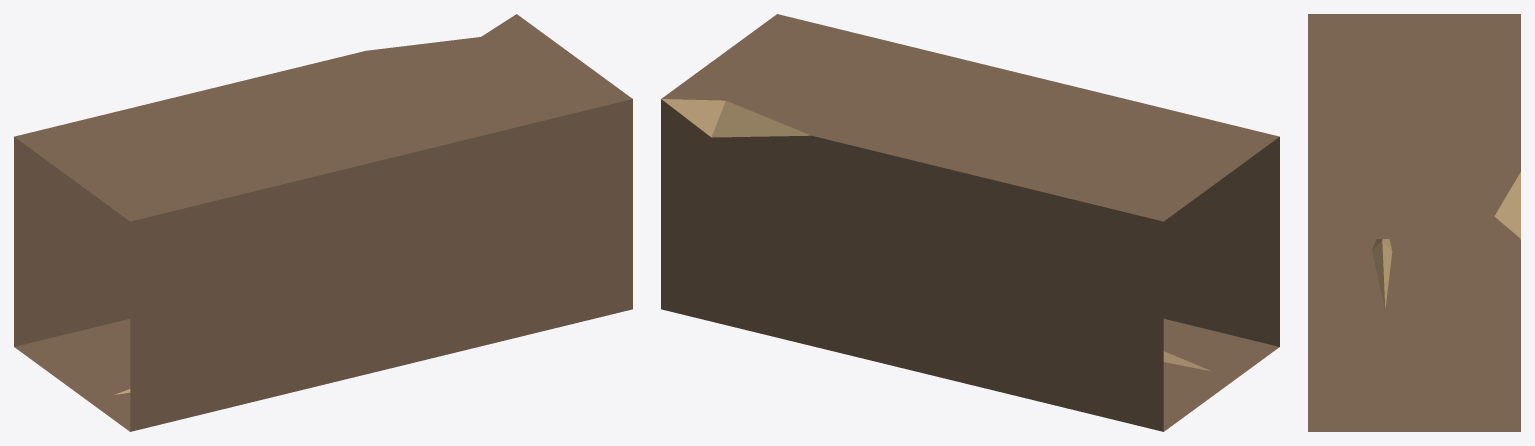
Rendered from Cave_Prop_Support_Ceiling_Beam_4.obj.
3 renders of one model, left to right at view 1: azimuth 30°, elevation 25°; view 2: azimuth 150°, elevation 25°; view 3: azimuth 270°, elevation 25°, orthographic. The views are drawn at different scales.
Visible parts, largest first — view 1: object1; view 2: object1; view 3: object1.
Boxes of the visible parts, x1,y1,x2,y2 form: object1: (14,14,632,431); object1: (661,14,1279,431); object1: (1308,14,1520,431).
Size of the model in its own units: 1 by 0.4 by 0.4.
